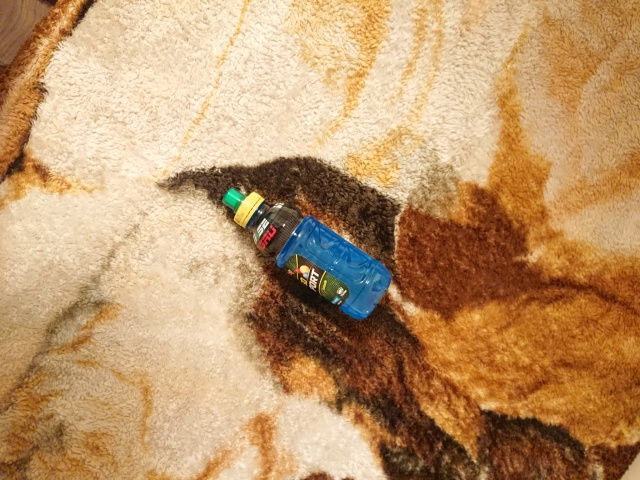Vindi Iso Sport Forest Strawberries 500mL: (219, 185, 393, 321)
